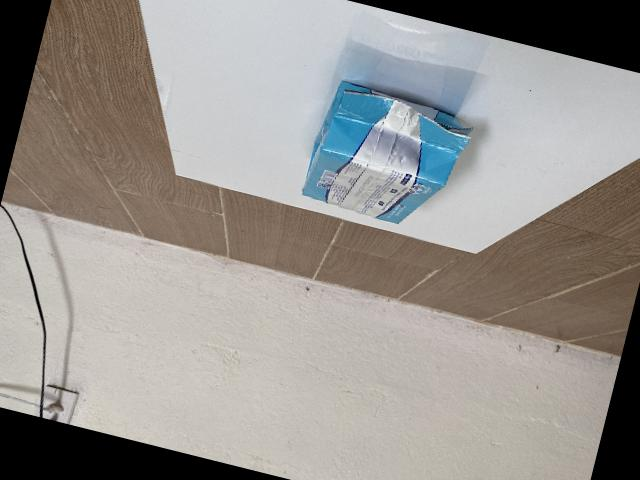Let-green_alcohol_wipes: (300, 78, 472, 223)
